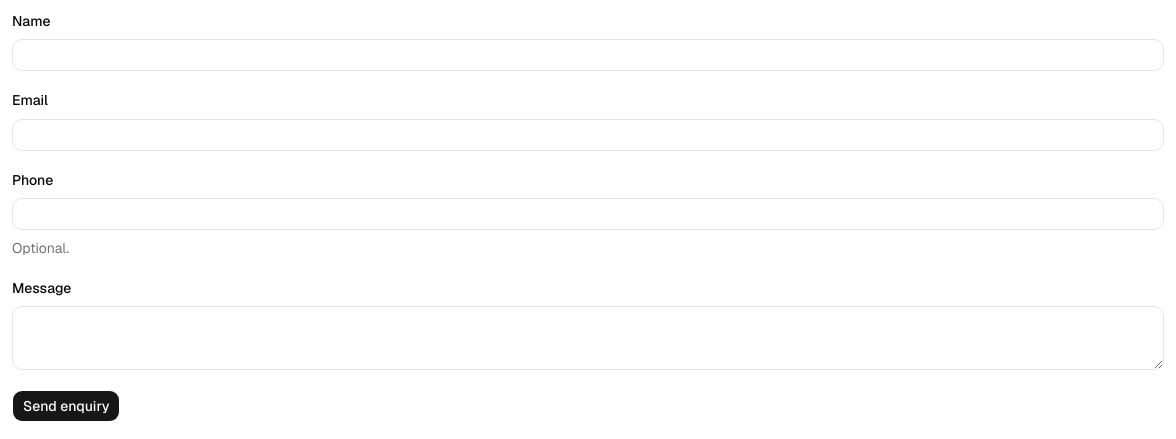
it: InquiryForm › replaces the form with a confirmation on success
The width and height of the screenshot is (1176, 439).
Type "Ada Lovelace" into the field labelled "Name".
click(588, 55); type("Ada Lovelace")  # box [12, 39, 1164, 71]
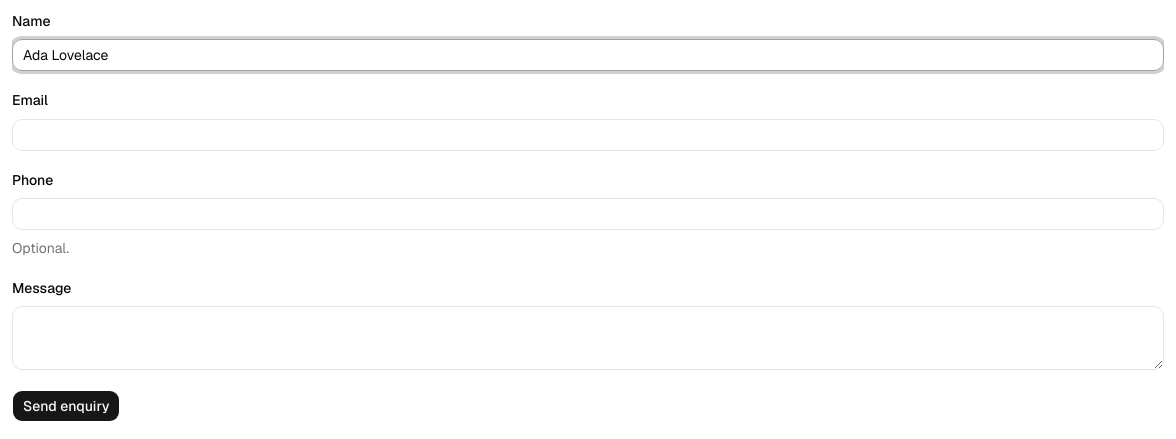
Type "ada@example.com" into the field labelled "Email".
click(588, 134); type("ada@example.com")  # box [12, 118, 1164, 150]
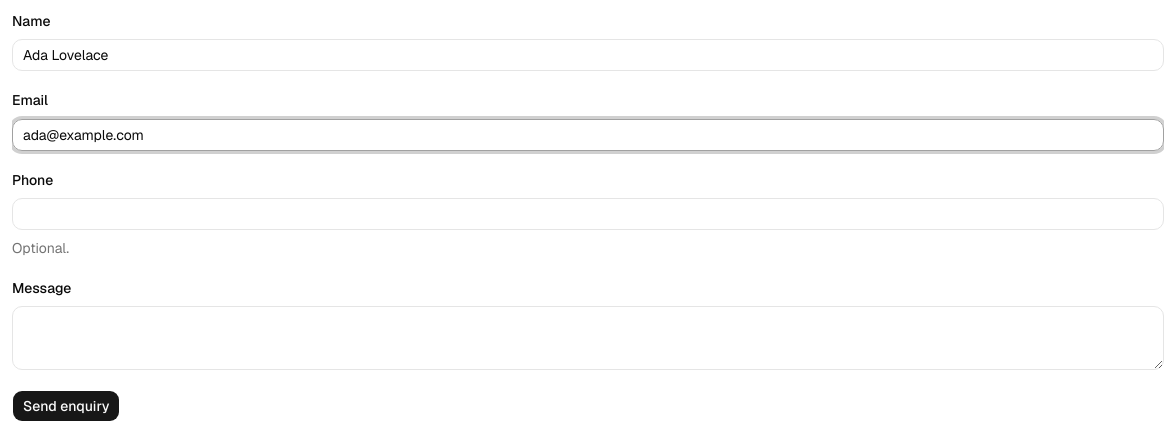
Type "Arrange a sea trial please." into the text box labelled "Message".
click(588, 338); type("Arrange a sea trial please.")  # box [12, 306, 1164, 370]
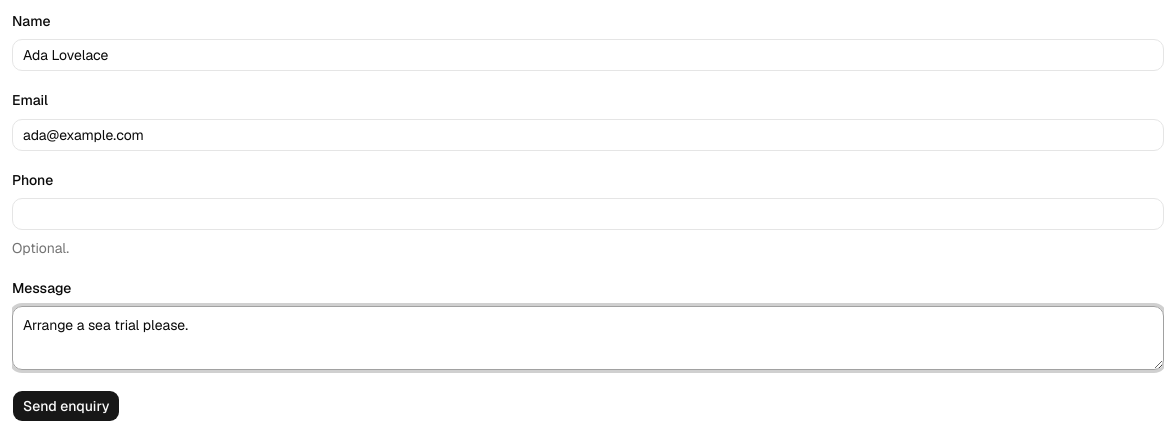
Click the button "Send enquiry".
click(66, 406)  # box [12, 390, 120, 422]
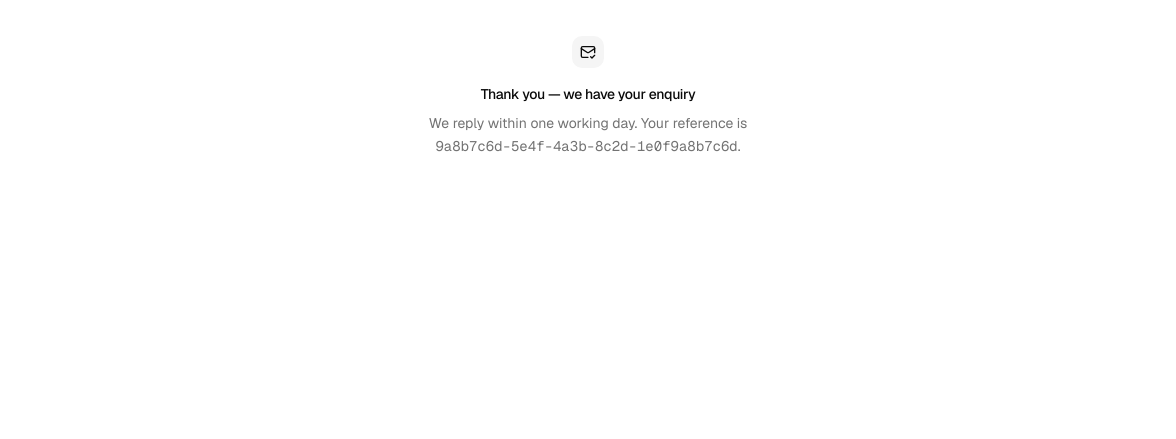
Now the text "Thank you — we have your enquiry" is shown, box [481, 84, 695, 104]
Now the button "Send enquiry" is gone
